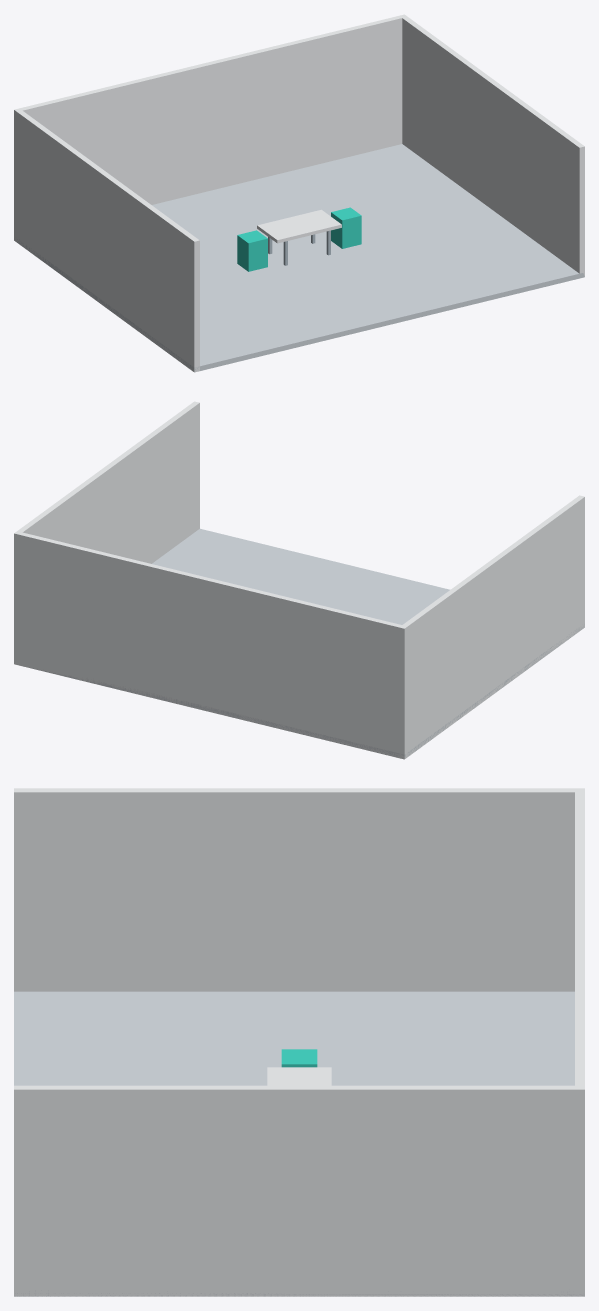
3 renders of one model, top to bottom at view 1: azimuth 30°, elevation 25°; view 2: azimuth 150°, elevation 25°; view 3: azimuth 270°, elevation 25°, orthographic. The views are drawn at different scales.
Parts seen in each view (by area): view 1: Exhibition Booth Concept; view 2: Exhibition Booth Concept; view 3: Exhibition Booth Concept.
Boxes of the visible parts, left/top/right/bottom form: Exhibition Booth Concept: left=14, top=14, right=584, bottom=372; Exhibition Booth Concept: left=14, top=401, right=584, bottom=759; Exhibition Booth Concept: left=14, top=788, right=584, bottom=1296.
Size of the model in its own units: 10 by 3.2 by 8.
